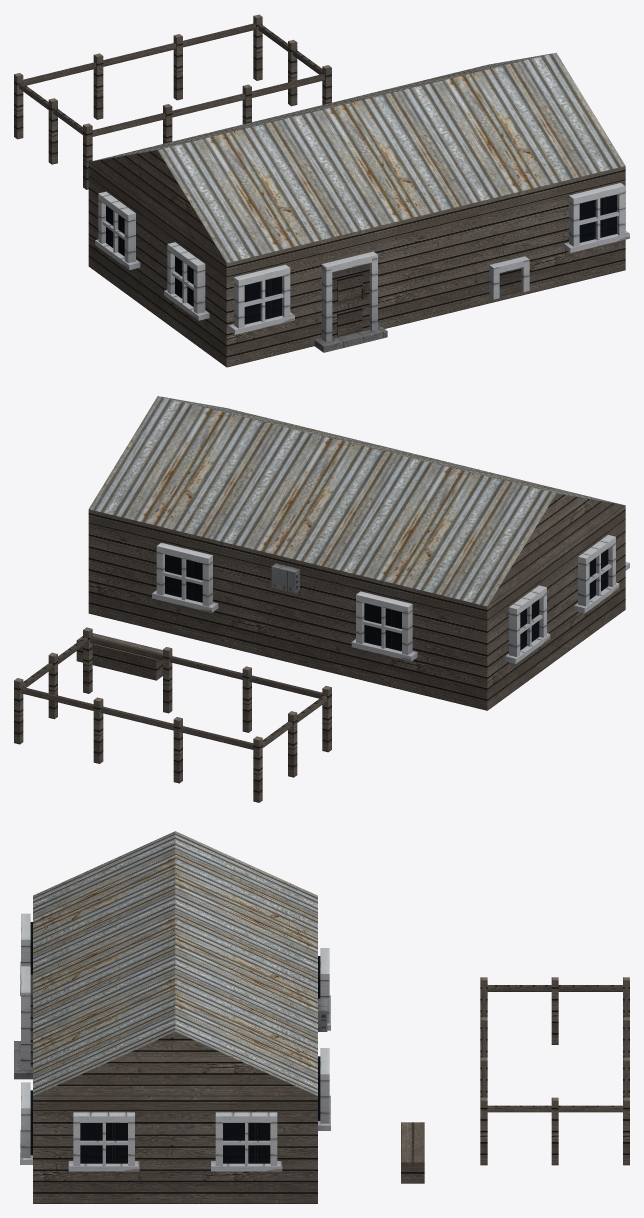
The model's file is chicken-coop_lod0.gltf.
3 renders of one model, top to bottom at view 1: azimuth 30°, elevation 25°; view 2: azimuth 150°, elevation 25°; view 3: azimuth 270°, elevation 25°, orthographic. The views are drawn at different scales.
Visible parts, largest first — view 1: chicken-coop_roof, chicken-coop_walls, chicken-coop_fen_20-white-clapboard_0, chicken-coop_gable_ends, chicken-coop__run_b, chicken-coop_fen_07-glass-curtain-blue_5_t, chicken-coop__run_a, chicken-coop_fen_18-timber-siding_1, chicken-coop_fen_18-timber-siding_2_t, chicken-coop__run_c, chicken-coop__run_d, chicken-coop_fen_06-granite_4; view 2: chicken-coop_roof, chicken-coop_walls, chicken-coop_fen_20-white-clapboard_0, chicken-coop_gable_ends, chicken-coop__run_b, chicken-coop__run_a, chicken-coop_fen_07-glass-curtain-blue_5_t, chicken-coop__trough, chicken-coop__run_c, chicken-coop__run_d, chicken-coop_fen_14-steel-panel_6; view 3: chicken-coop_roof, chicken-coop_walls, chicken-coop_gable_ends, chicken-coop_fen_20-white-clapboard_0, chicken-coop_fen_07-glass-curtain-blue_5_t, chicken-coop__run_d, chicken-coop__run_a, chicken-coop__trough, chicken-coop__run_c, chicken-coop__run_b.
Boxes of the visible parts, x1,y1,x2,y2 form: chicken-coop_roof: (91,52,625,262); chicken-coop_walls: (88,162,625,367); chicken-coop_fen_20-white-clapboard_0: (95,183,629,342); chicken-coop_gable_ends: (89,150,226,262); chicken-coop__run_b: (14,14,262,139); chicken-coop_fen_07-glass-curtain-blue_5_t: (106,194,616,324); chicken-coop__run_a: (83,65,331,189); chicken-coop_fen_18-timber-siding_1: (332,263,521,338); chicken-coop_fen_18-timber-siding_2_t: (337,273,362,336); chicken-coop__run_c: (19,82,82,164); chicken-coop__run_d: (258,24,322,106); chicken-coop_fen_06-granite_4: (314,324,387,352); chicken-coop_roof: (89,396,622,606); chicken-coop_walls: (88,505,625,710); chicken-coop_fen_20-white-clapboard_0: (152,535,629,663); chicken-coop_gable_ends: (488,493,625,605); chicken-coop__run_b: (14,678,262,802); chicken-coop__run_a: (83,627,331,752); chicken-coop_fen_07-glass-curtain-blue_5_t: (165,549,608,651); chicken-coop__trough: (76,633,162,680); chicken-coop__run_c: (262,695,326,777); chicken-coop__run_d: (23,637,87,719); chicken-coop_fen_14-steel-panel_6: (271,563,299,593); chicken-coop_roof: (33,831,317,1095); chicken-coop_walls: (33,1096,317,1203); chicken-coop_gable_ends: (33,1032,317,1096); chicken-coop_fen_20-white-clapboard_0: (20,913,330,1171); chicken-coop_fen_07-glass-curtain-blue_5_t: (30,922,320,1163); chicken-coop__run_d: (487,1097,622,1165); chicken-coop__run_a: (480,977,487,1165); chicken-coop__trough: (401,1122,424,1183); chicken-coop__run_c: (487,977,622,1044); chicken-coop__run_b: (623,977,629,1165).
Size of the model in its own units: 10.55 by 4.02 by 12.97.
